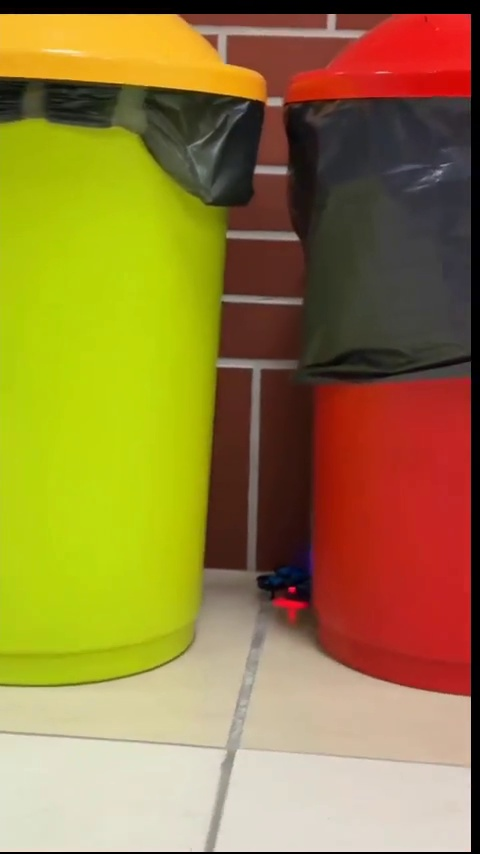drone: (254, 565, 307, 603)
